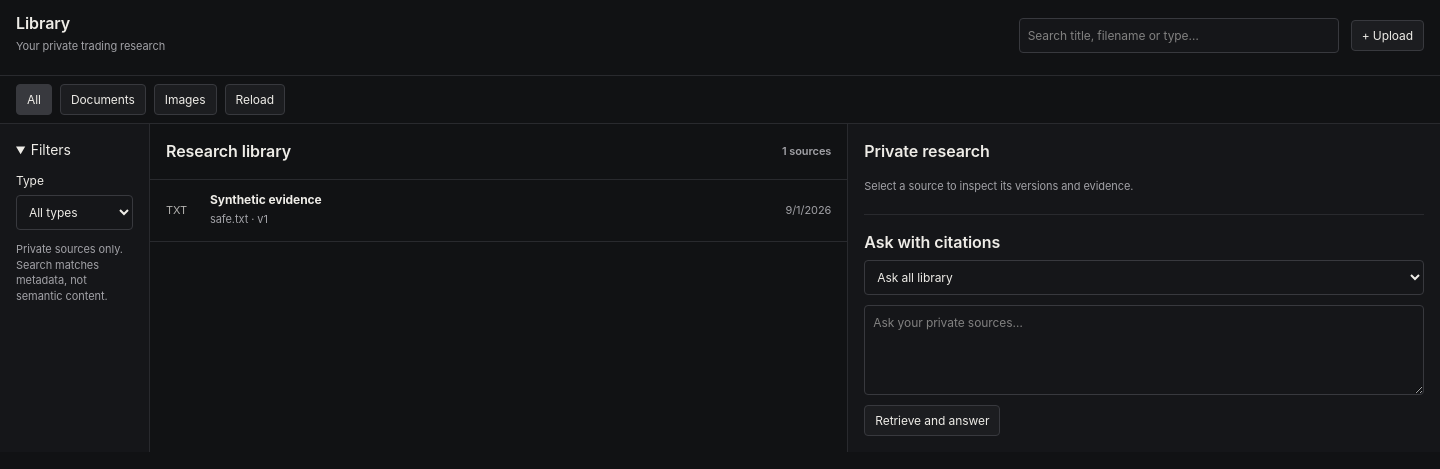
Test: searches real filename/type and presents an honest Images empty state
The image size is (1440, 469).
Expected: the text "Synthetic evidence" is shown, [210,192,322,206]
Type "safe.txt" into the search field named "Search library". click: (1179, 35)
box: [1019,18,1339,53]
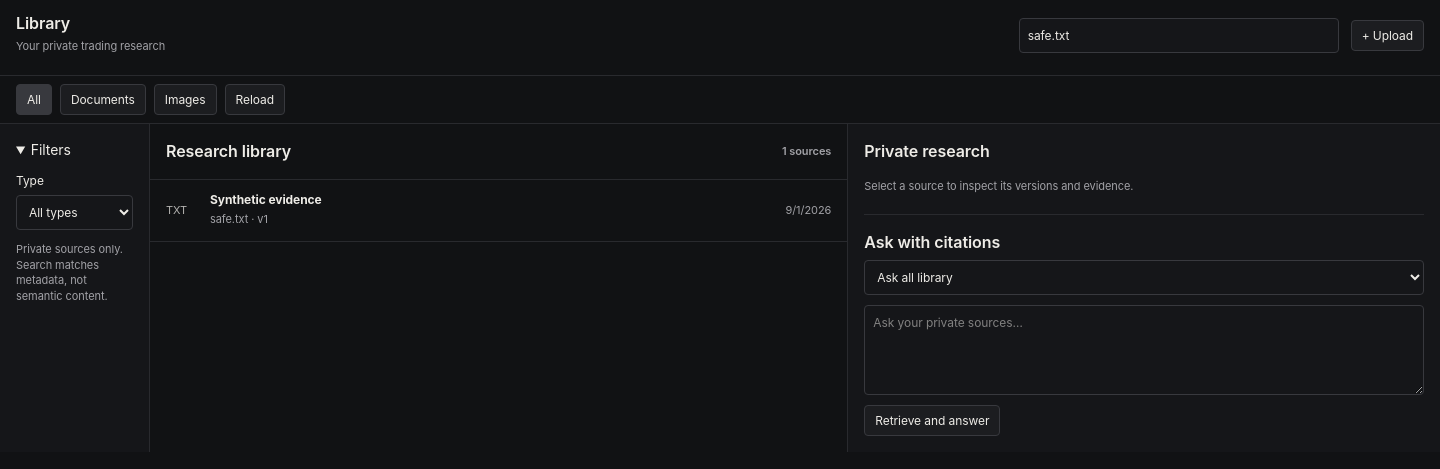
Expected: the text "Synthetic evidence" is shown, [210,192,322,206]
Replace the text in the search field named "Search library" with "TXT". click: (1179, 35)
box: [1019,18,1339,53]
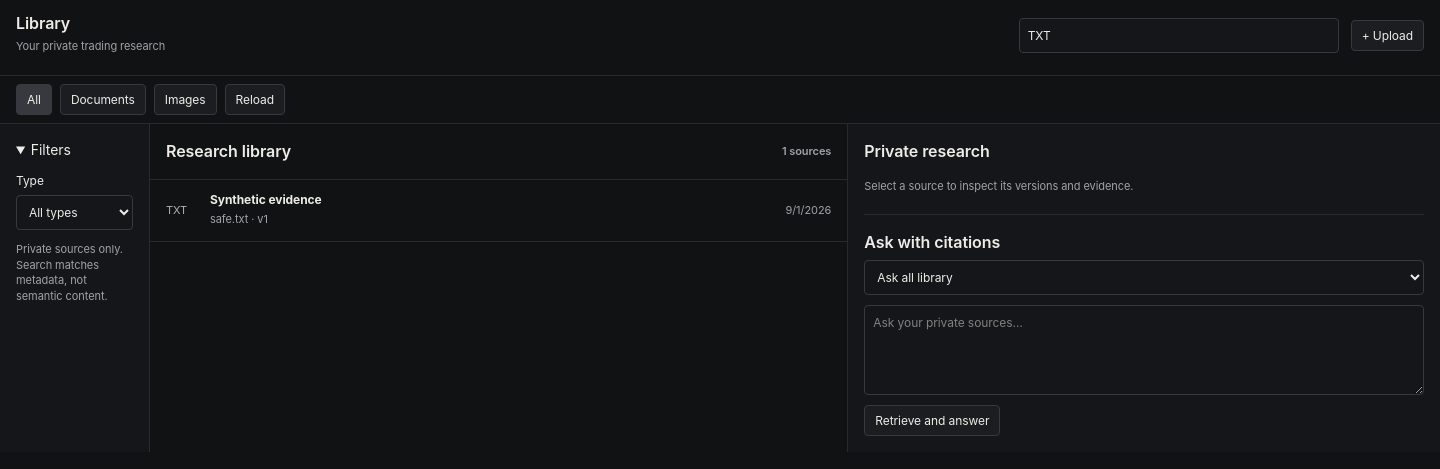
Expected: the text "Synthetic evidence" is shown, [210,192,322,206]
Replace the text in the search field named "Search library" with "Synthetic". click: (1179, 35)
box: [1019,18,1339,53]
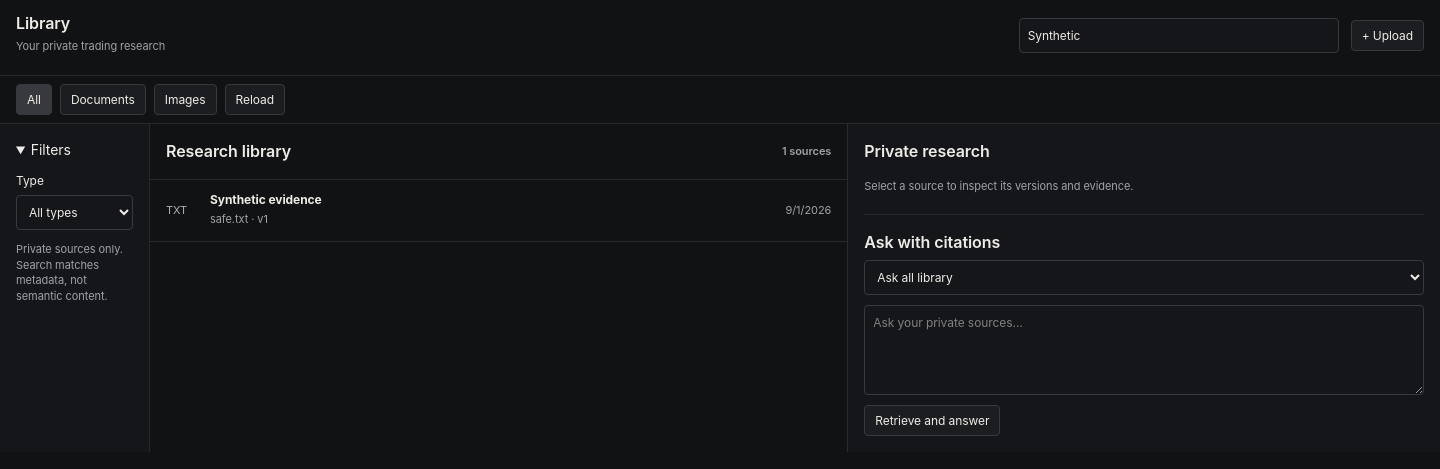
Expected: the text "Synthetic evidence" is shown, [210,192,322,206]
Replace the text in the search field named "Search library" with "unknown". click: (1179, 35)
box: [1019,18,1339,53]
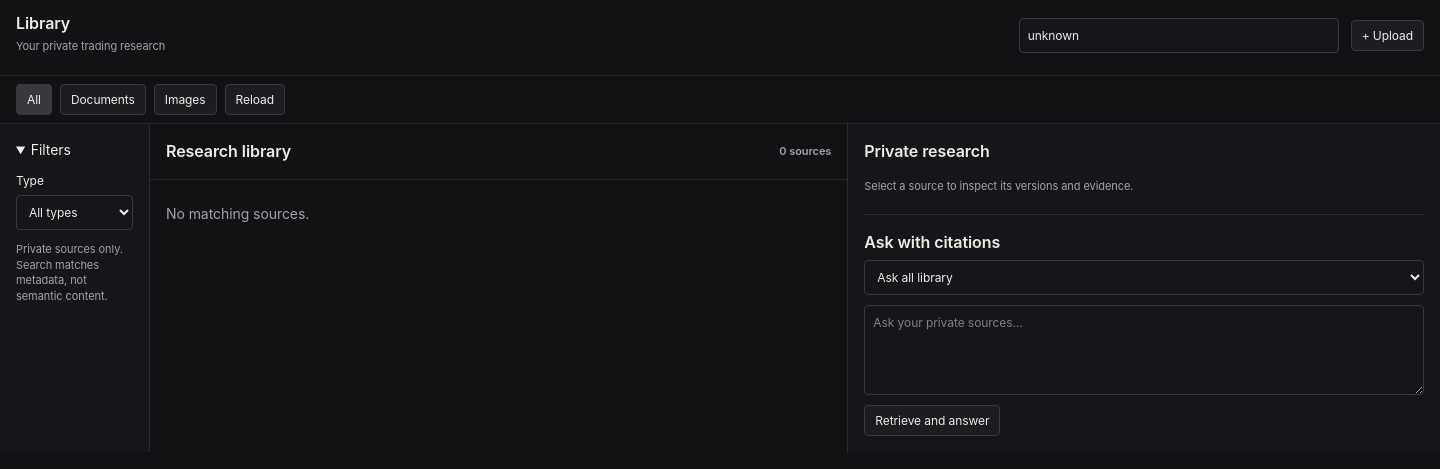
Expected: the button "Synthetic evidence" is gone
Clear the search field named "Search library". click: (1179, 35)
box: [1019,18,1339,53]
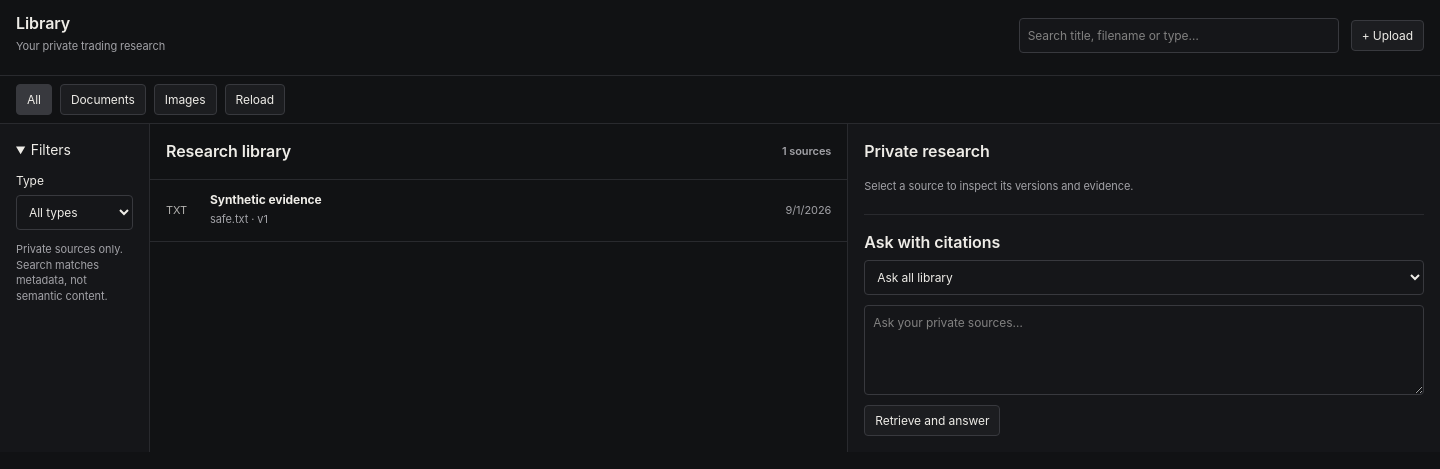
Click the tab "Images". click: click(185, 99)
box: [154,84,217,115]
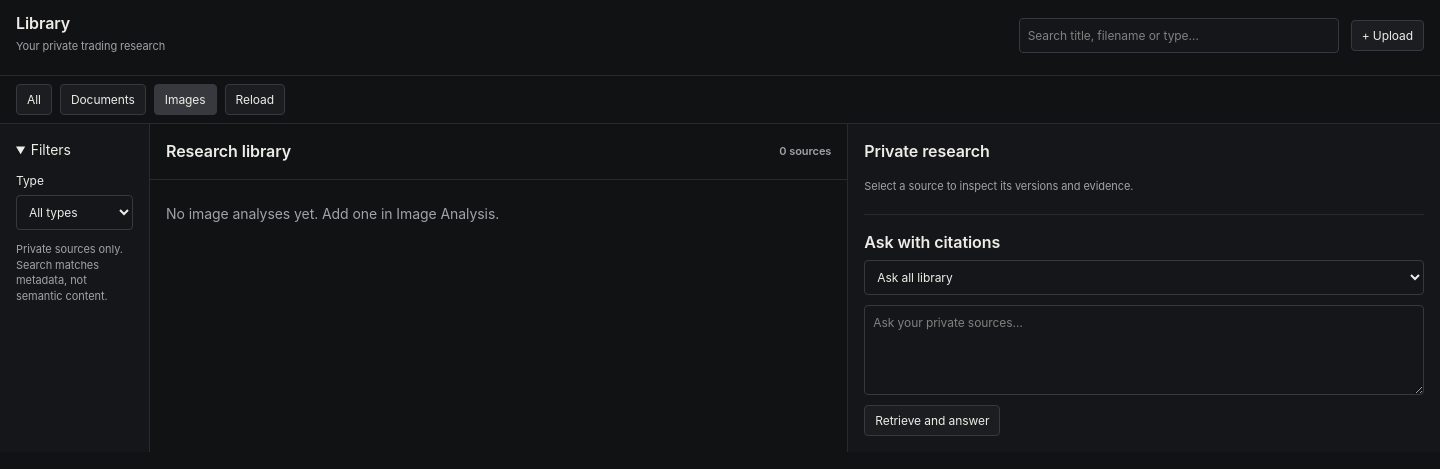
Expected: the text "No image analyses yet. Add one in Image Analysis." is shown, [166,206,499,222]
